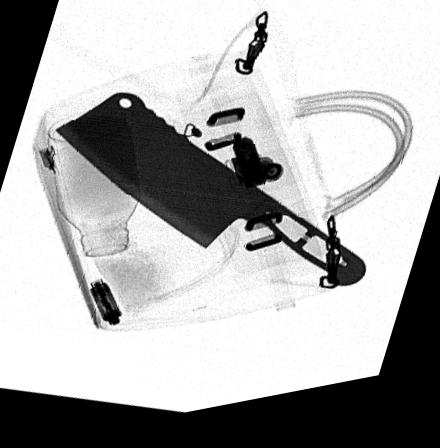Knife: (52, 96, 367, 300)
